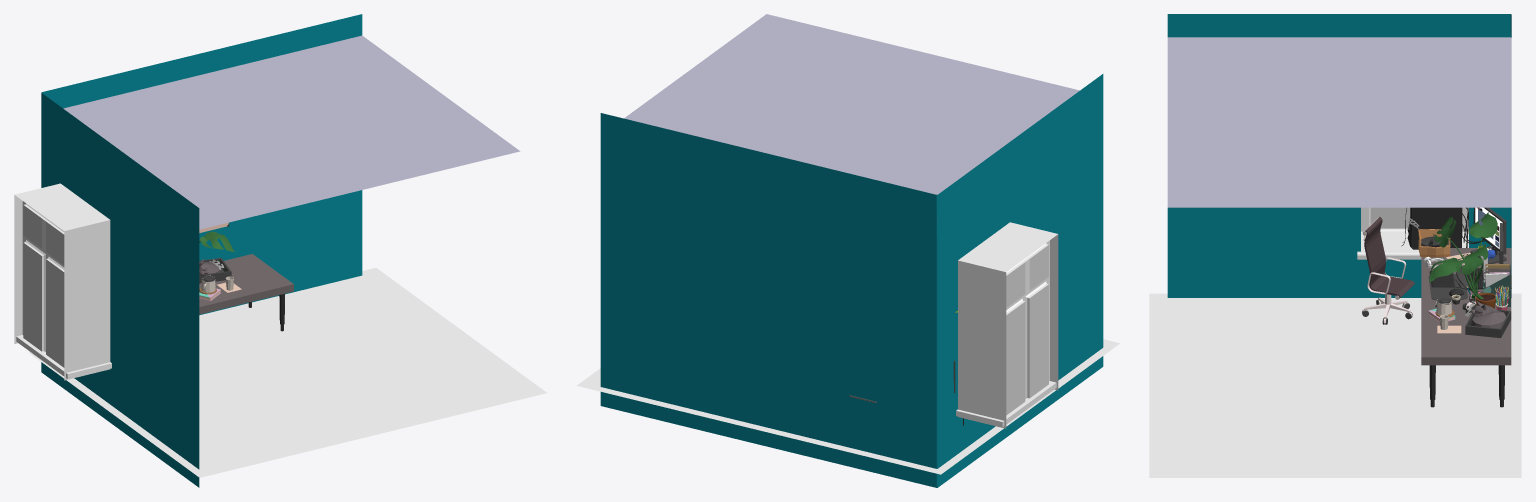
The model's file is room-transformed.glb.
3 views of the same model, side by side, from view 1: azimuth 30°, elevation 25°; view 2: azimuth 150°, elevation 25°; view 3: azimuth 270°, elevation 25° (orthographic). The views are drawn at different scales.
Parts seen in each view (by area): view 1: Wall_blue_54, Wall_window.001_60, floor_55, Wall_window_56, window.001_59, table.001_38, window_58, Cube.004_57, Cylinder.010_104; view 2: Wall_blue_54, Wall_window.001_60, Wall_window_56, window.001_59, floor_55, window_58, Cube.004_57; view 3: floor_55, Wall_window.001_60, Wall_blue_54, table.001_38, Cube.015_9, monstera.002_43, Block_40, Cylinder.010_104, Cube.004_57, Monitor_1.001_34, window.001_59, Cube.003_99 (+4 smaller).
Boxes of the visible parts, bbox=[...] form: Wall_blue_54: bbox=[41, 14, 362, 487]; Wall_window.001_60: bbox=[63, 35, 520, 229]; floor_55: bbox=[29, 267, 546, 477]; Wall_window_56: bbox=[14, 183, 110, 380]; window.001_59: bbox=[23, 205, 64, 367]; table.001_38: bbox=[199, 254, 293, 314]; window_58: bbox=[19, 193, 72, 378]; Cube.004_57: bbox=[16, 335, 111, 378]; Cylinder.010_104: bbox=[199, 258, 231, 283]; Wall_blue_54: bbox=[600, 74, 1103, 487]; Wall_window.001_60: bbox=[624, 14, 1079, 194]; Wall_window_56: bbox=[958, 222, 1058, 428]; window.001_59: bbox=[1006, 245, 1048, 415]; floor_55: bbox=[577, 339, 1119, 474]; window_58: bbox=[997, 232, 1053, 418]; Cube.004_57: bbox=[956, 381, 1056, 427]; floor_55: bbox=[1149, 293, 1521, 477]; Wall_window.001_60: bbox=[1167, 37, 1511, 207]; Wall_blue_54: bbox=[1167, 14, 1511, 297]; table.001_38: bbox=[1421, 248, 1511, 365]; Cube.015_9: bbox=[1362, 217, 1414, 324]; monstera.002_43: bbox=[1429, 212, 1497, 308]; Block_40: bbox=[1407, 207, 1462, 249]; Cylinder.010_104: bbox=[1465, 301, 1511, 337]; Cube.004_57: bbox=[1357, 231, 1468, 259]; Monitor_1.001_34: bbox=[1470, 207, 1506, 263]; window.001_59: bbox=[1370, 207, 1410, 228]; Cube.003_99: bbox=[1418, 229, 1450, 257].
Bounding box in the file's own units: 7.49 × 5.19 × 5.76.
